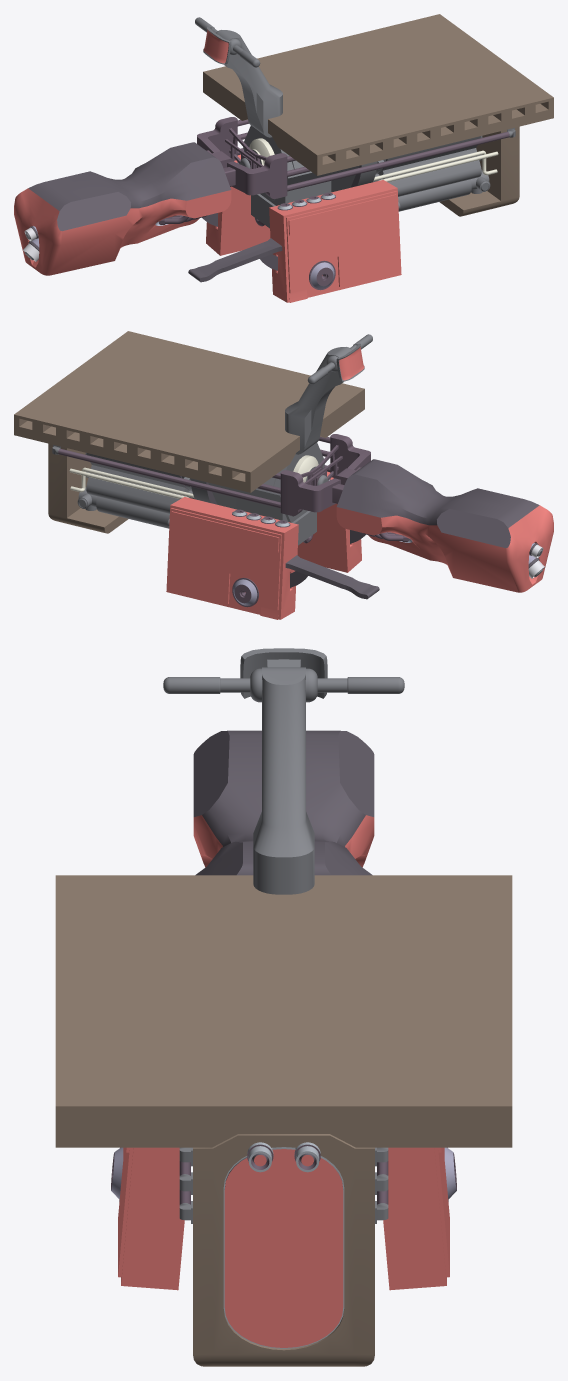
File: hovercarrier2.fbx
The picture shows the model from 3 angles, top to bottom: view 1: azimuth 30°, elevation 25°; view 2: azimuth 150°, elevation 25°; view 3: azimuth 270°, elevation 25°; orthographic projection. The views are drawn at different scales.
Parts seen in each view (by area): view 1: Cube.002, 3d-model.002; view 2: Cube.002, 3d-model.002; view 3: 3d-model.002, Cube.002.
Part boxes in pixels (x1,y1,x2,y2): Cube.002: (14,117,519,302); 3d-model.002: (195,14,553,175); Cube.002: (48,434,553,619); 3d-model.002: (14,331,372,492); 3d-model.002: (55,648,512,1147); Cube.002: (111,730,456,1366).
Size of the model in its own units: 323 by 160 by 133.
